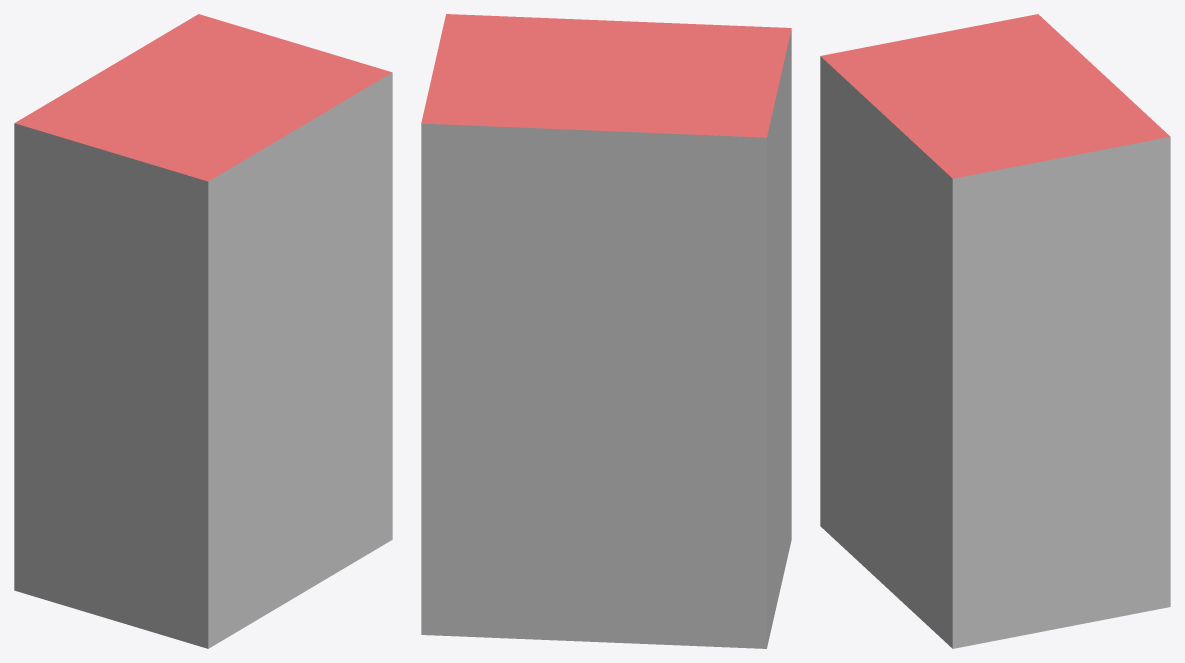
File: ID_c5c03dac-4570-4945-a743-6fd80cdbafab.gltf
The picture shows the model from 3 angles, left to right: view 1: azimuth 30°, elevation 25°; view 2: azimuth 150°, elevation 25°; view 3: azimuth 270°, elevation 25°; orthographic projection. The views are drawn at different scales.
Parts seen in each view (by area): view 1: Z_UP; view 2: Z_UP; view 3: Z_UP.
Boxes of the visible parts, x1,y1,x2,y2 form: Z_UP: [14, 14, 392, 648]; Z_UP: [421, 14, 791, 648]; Z_UP: [820, 14, 1170, 648].
Bounding box in the file's own units: 9.77 × 13 × 8.78.
